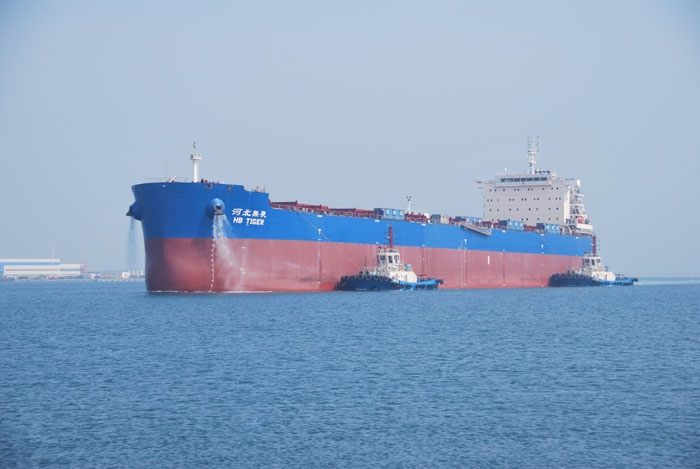Cargoship: (121, 144, 597, 299)
airplane: (341, 232, 443, 290), (549, 244, 642, 286)
